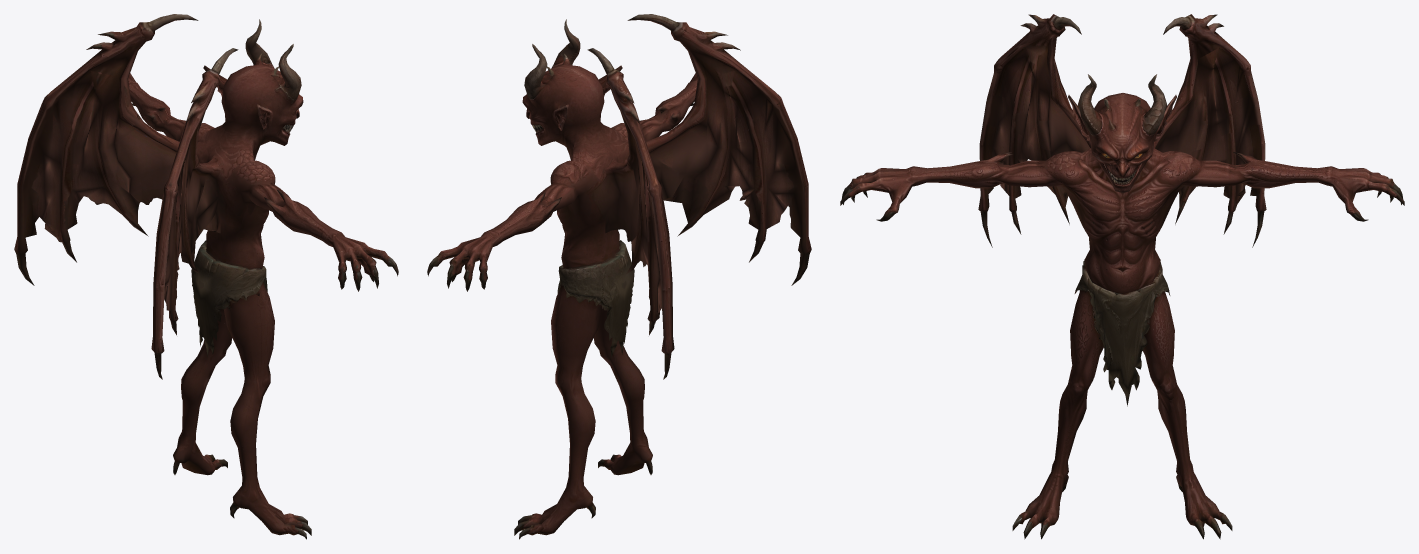
File: imp.glb
3 renders of one model, left to right at view 1: azimuth 30°, elevation 25°; view 2: azimuth 150°, elevation 25°; view 3: azimuth 270°, elevation 25°, orthographic.
Parts seen in each view (by area): view 1: world; view 2: world; view 3: world.
Part boxes in pixels (left/top/right/bottom): world: left=14, top=14, right=398, bottom=539; world: left=427, top=14, right=811, bottom=539; world: left=840, top=14, right=1404, bottom=539.
Size of the model in its own units: 0.4434 by 0.9551 by 0.998.
Materials: 1 (1 with a texture image).
